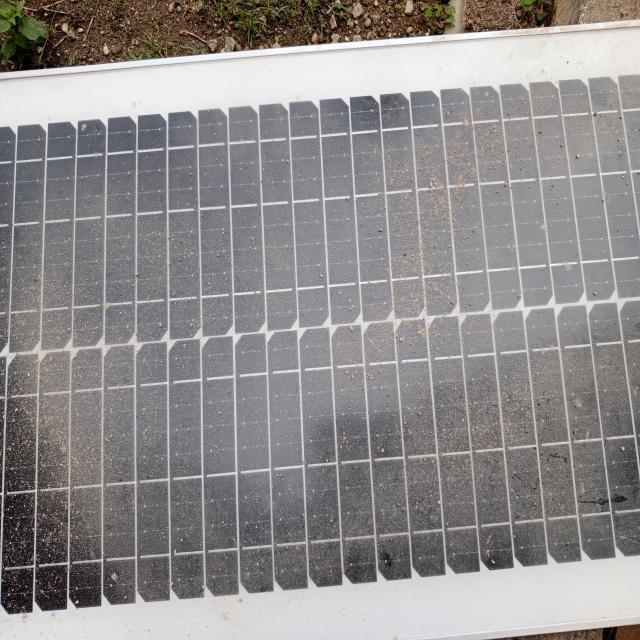Surface Contaminant: (1, 104, 639, 590)
